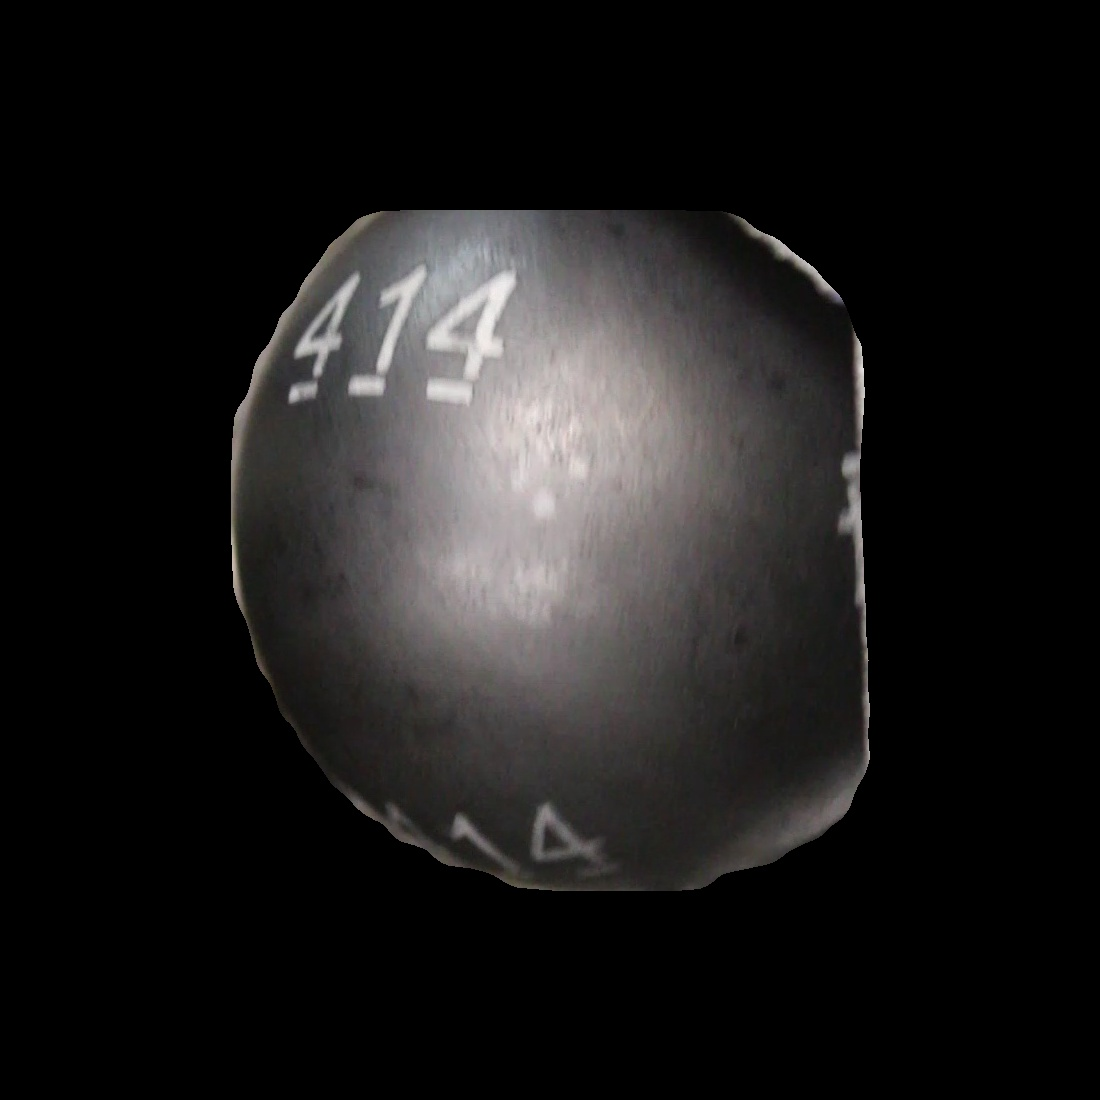digits: (283, 265, 521, 407)
